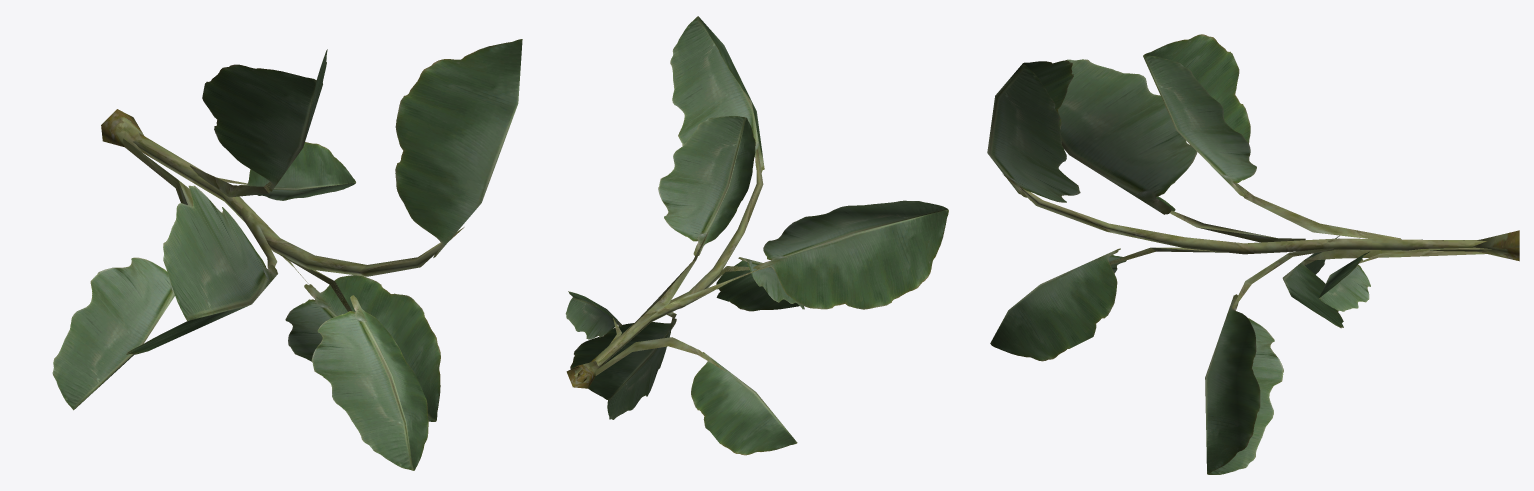
Rendered from com_potted_plant01_LOD1.obj.
The picture shows the model from 3 angles, left to right: view 1: azimuth 30°, elevation 25°; view 2: azimuth 150°, elevation 25°; view 3: azimuth 270°, elevation 25°; orthographic projection. The views are drawn at different scales.
Parts seen in each view (by area): view 1: mtl_potted_plant01; view 2: mtl_potted_plant01; view 3: mtl_potted_plant01.
Part boxes in pixels (x1,y1,x2,y2): mtl_potted_plant01: (52, 39, 522, 470); mtl_potted_plant01: (565, 16, 948, 455); mtl_potted_plant01: (987, 34, 1519, 474).
Size of the model in its own units: 133 by 131 by 151.
